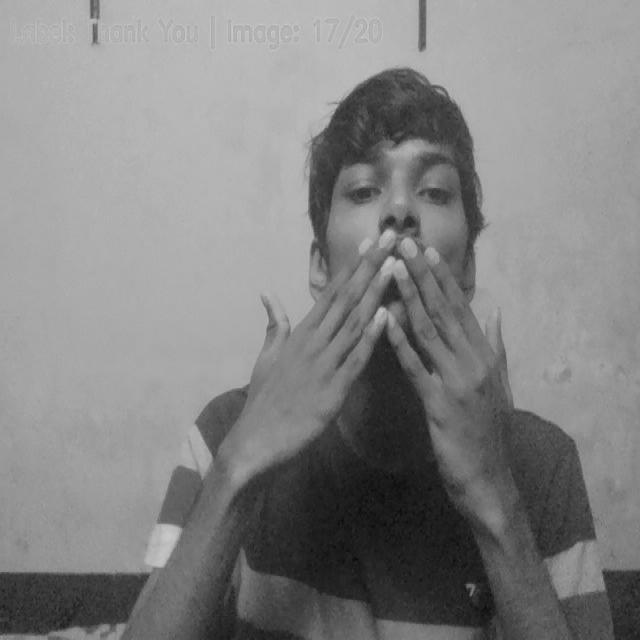Thank You: (248, 225, 517, 462)
